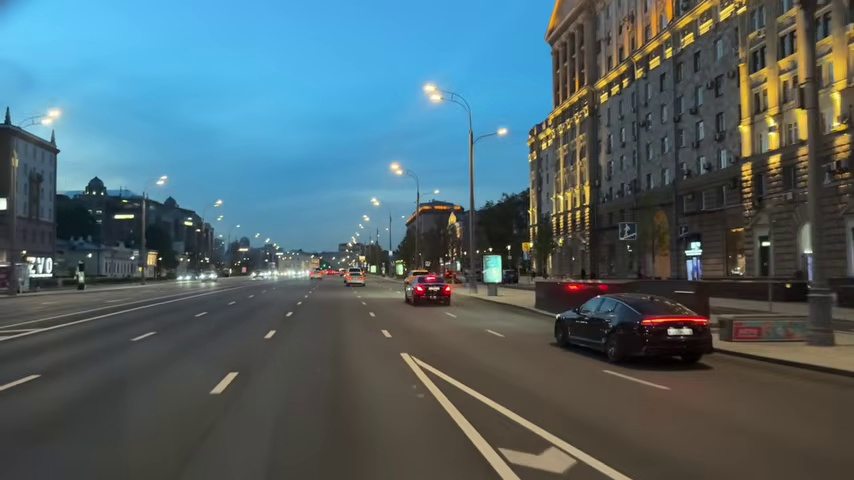acesa: (423, 83, 443, 103), (42, 108, 60, 125), (388, 161, 405, 177), (153, 175, 168, 188), (368, 197, 381, 209), (0, 197, 8, 213)
